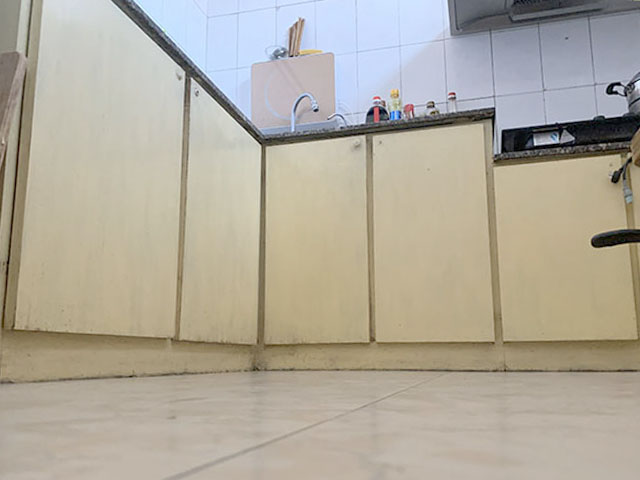cabinet: (2, 2, 263, 384), (262, 100, 504, 369), (494, 142, 640, 370)
